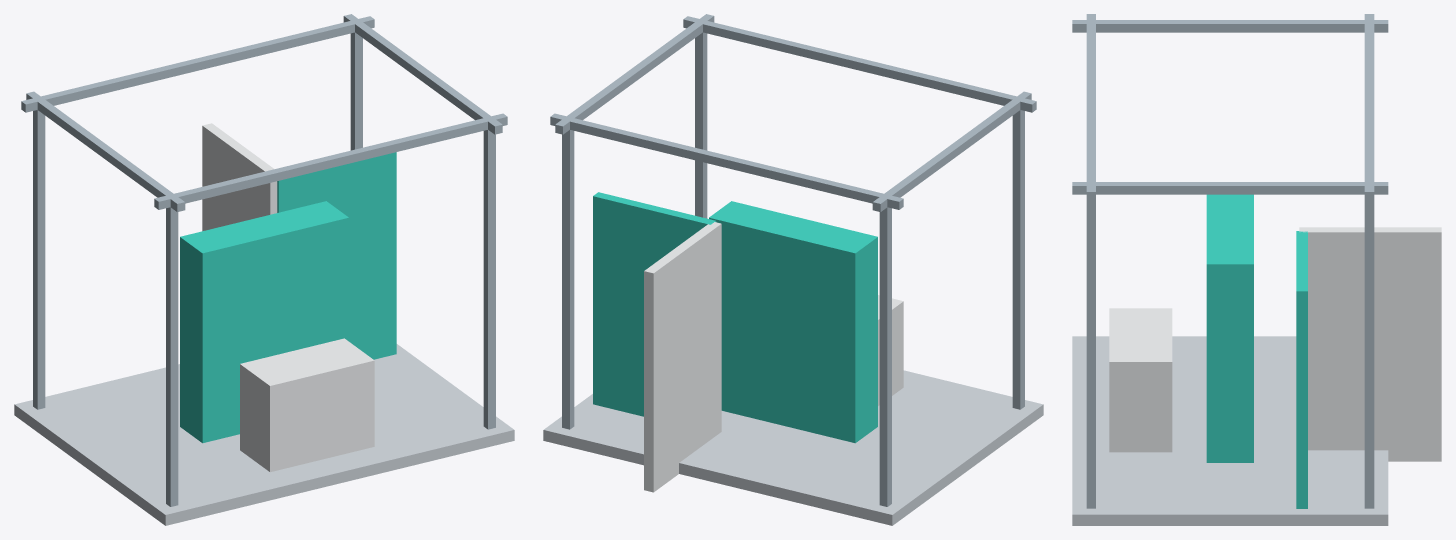
The picture shows the model from 3 angles, left to right: view 1: azimuth 30°, elevation 25°; view 2: azimuth 150°, elevation 25°; view 3: azimuth 270°, elevation 25°; orthographic projection. The views are drawn at different scales.
Visible parts, largest first — view 1: Exhibition Booth Concept; view 2: Exhibition Booth Concept; view 3: Exhibition Booth Concept.
Part boxes in pixels (bbox=[...]): Exhibition Booth Concept: bbox=[14, 14, 514, 525]; Exhibition Booth Concept: bbox=[543, 14, 1043, 525]; Exhibition Booth Concept: bbox=[1072, 14, 1441, 525].
Size of the model in its own units: 4 by 3.49 by 3.51.
